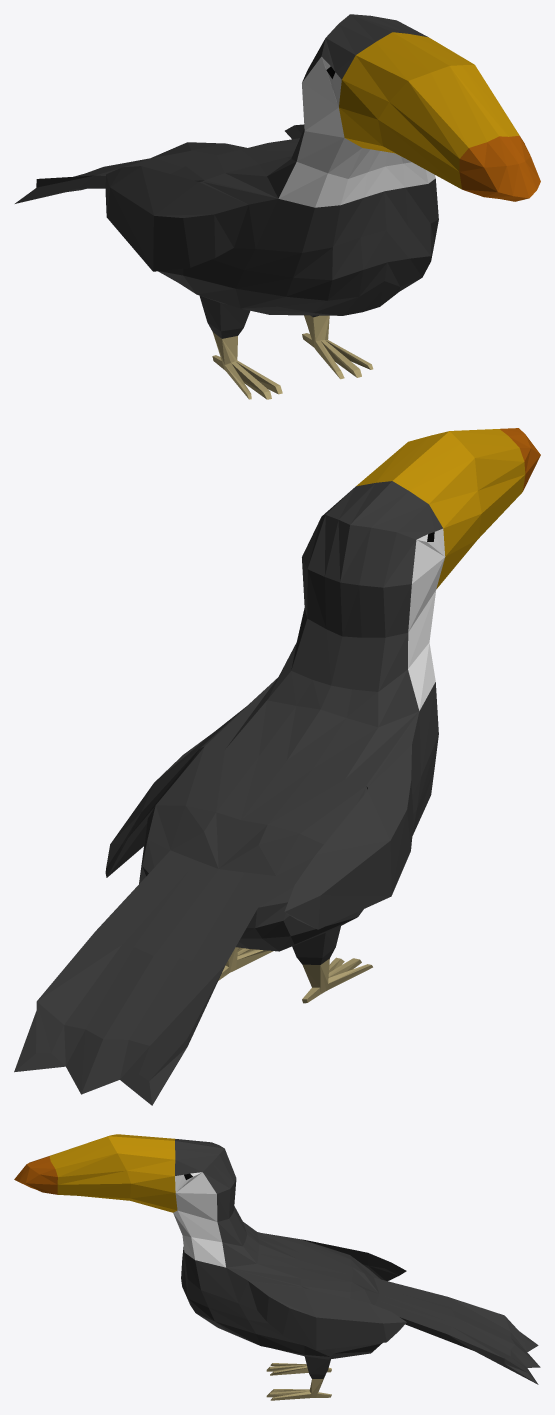
File: FBXtoucan2.fbx
The picture shows the model from 3 angles, top to bottom: view 1: azimuth 30°, elevation 25°; view 2: azimuth 150°, elevation 25°; view 3: azimuth 270°, elevation 25°; orthographic projection. The views are drawn at different scales.
Parts seen in each view (by area): view 1: polySurface3; view 2: polySurface3; view 3: polySurface3.
Part boxes in pixels (<box>): polySurface3: <box>15,14,540,399</box>; polySurface3: <box>14,428,540,1105</box>; polySurface3: <box>14,1134,540,1400</box>.
Bounding box in the file's own units: 1.19 × 2.02 × 3.87.
